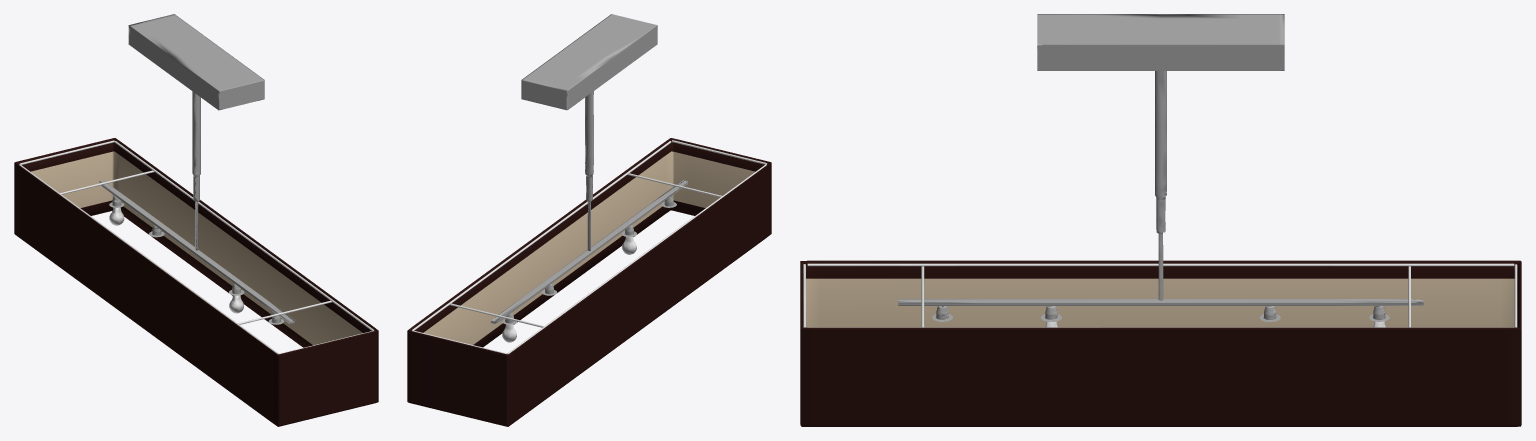
File: lamplow.fbx
3 views of the same model, side by side, from view 1: azimuth 30°, elevation 25°; view 2: azimuth 150°, elevation 25°; view 3: azimuth 270°, elevation 25° (orthographic). The views are drawn at different scales.
Visible parts, largest first — view 1: Cube.001, Cube, palo bombillas, Cylinder, Cylinder.002, Cylinder.001; view 2: Cube.001, Cube, palo bombillas, Cylinder, Cylinder.002, Cylinder.001; view 3: Cube.001, Cube, palo bombillas, Cylinder.001, Cylinder, Cylinder.002.
Boxes of the visible parts, box(x1,y1,x2,y2) form: Cube.001: box(14, 138, 378, 426); Cube: box(128, 14, 264, 110); palo bombillas: box(99, 180, 295, 323); Cylinder: box(192, 91, 200, 250); Cylinder.002: box(114, 141, 374, 330); Cylinder.001: box(19, 164, 278, 354); Cube.001: box(407, 138, 771, 426); Cube: box(521, 14, 657, 110); palo bombillas: box(490, 180, 687, 323); Cylinder: box(585, 91, 593, 250); Cylinder.002: box(411, 141, 671, 330); Cylinder.001: box(507, 164, 766, 354); Cube.001: box(800, 260, 1521, 426); Cube: box(1037, 14, 1284, 70); palo bombillas: box(898, 299, 1423, 305); Cylinder.001: box(807, 263, 1514, 266); Cylinder: box(1155, 71, 1166, 300); Cylinder.002: box(808, 327, 1513, 327).
Bounding box in the file's own units: 441 × 1104 × 1983.
